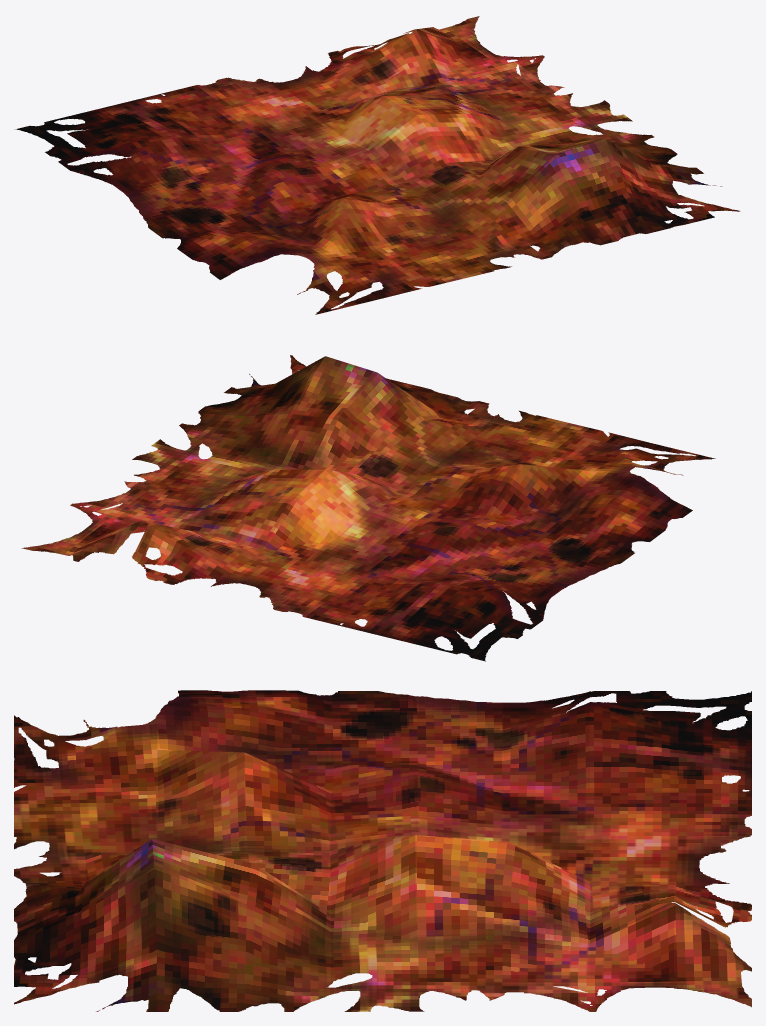
3 renders of one model, top to bottom at view 1: azimuth 30°, elevation 25°; view 2: azimuth 150°, elevation 25°; view 3: azimuth 270°, elevation 25°, orthographic. The views are drawn at different scales.
Parts seen in each view (by area): view 1: gorefloor; view 2: gorefloor; view 3: gorefloor.
Part boxes in pixels (bbox=[...]): gorefloor: bbox=[15, 16, 740, 314]; gorefloor: bbox=[21, 355, 715, 661]; gorefloor: bbox=[14, 690, 751, 1011].
Bounding box in the file's own units: 352 × 40.23 × 342.
1 material, 1 textured.
